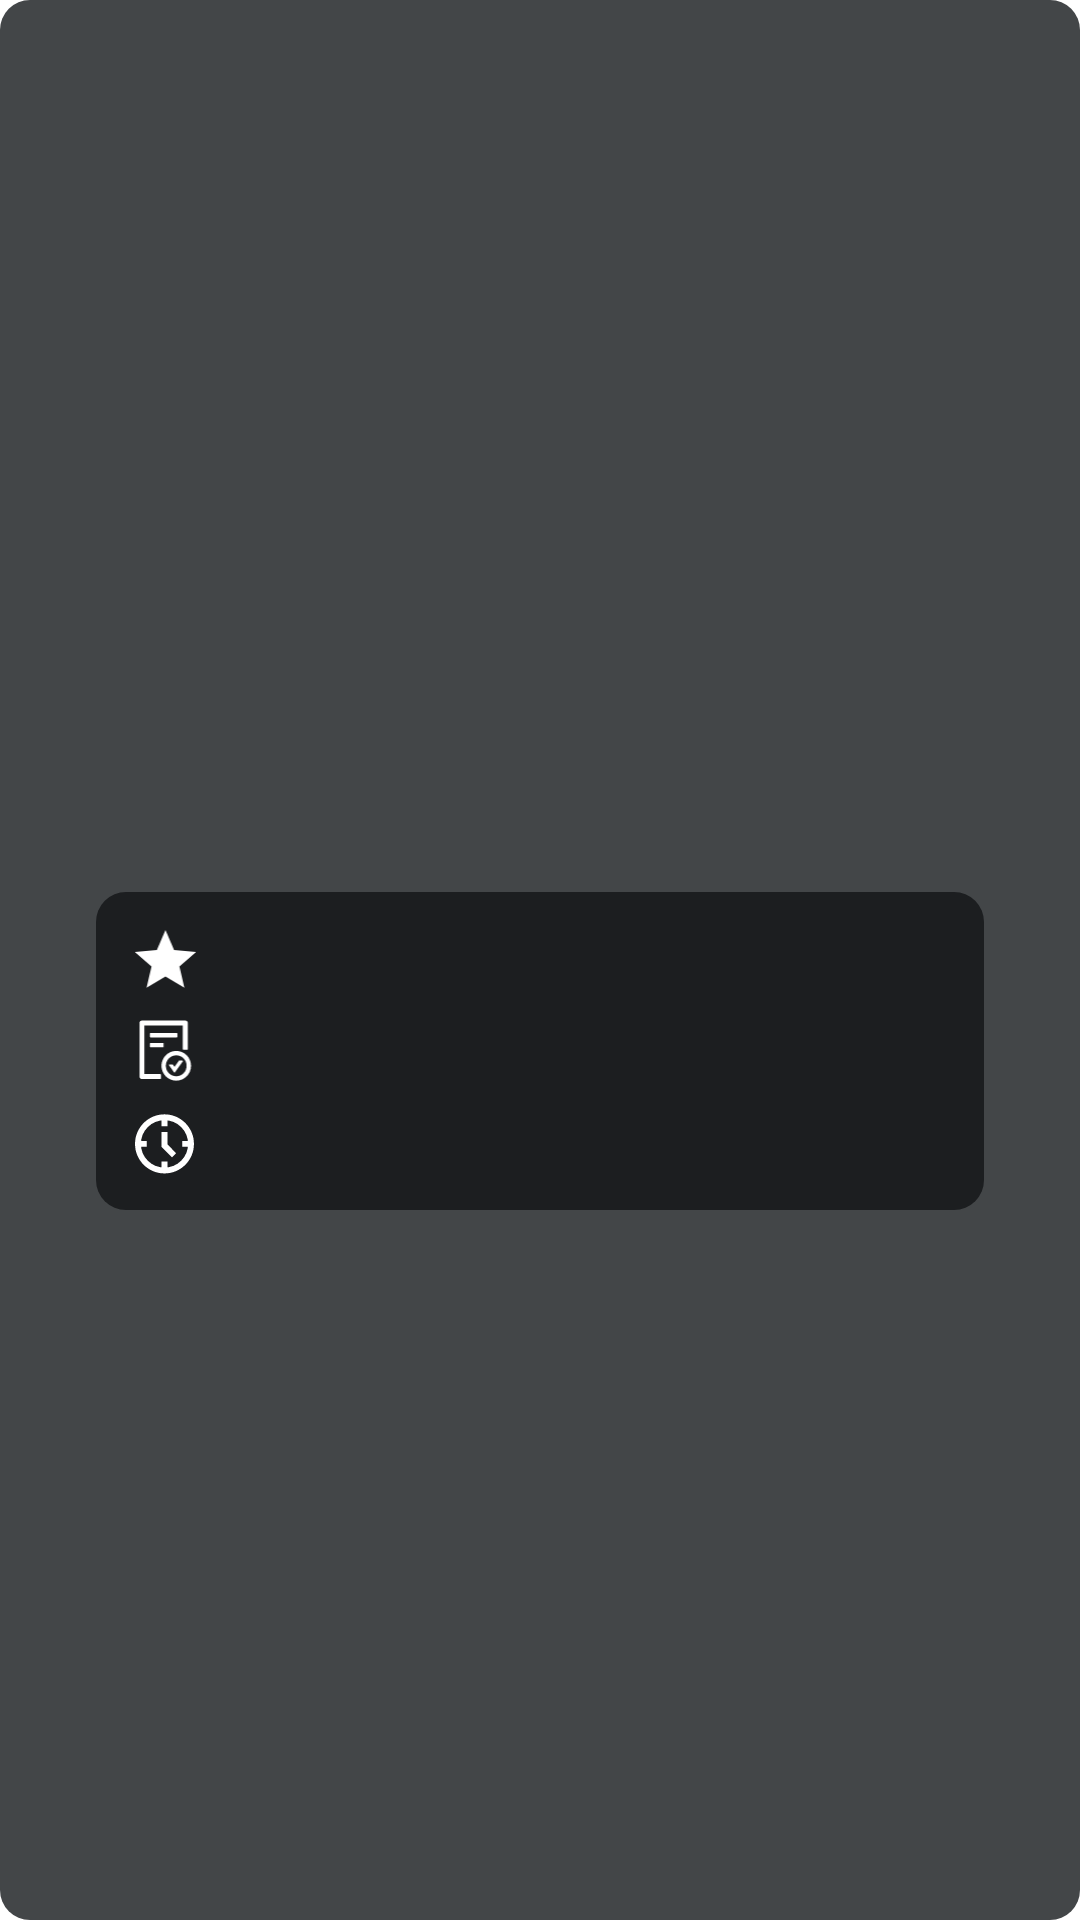

Icon bounding boxes for this 1080px x 1920px phone screenshot, format BBox(x1, y1, x2, y2):
Points received: BBox(135, 930, 196, 988)
Received at: BBox(135, 1114, 194, 1174)
